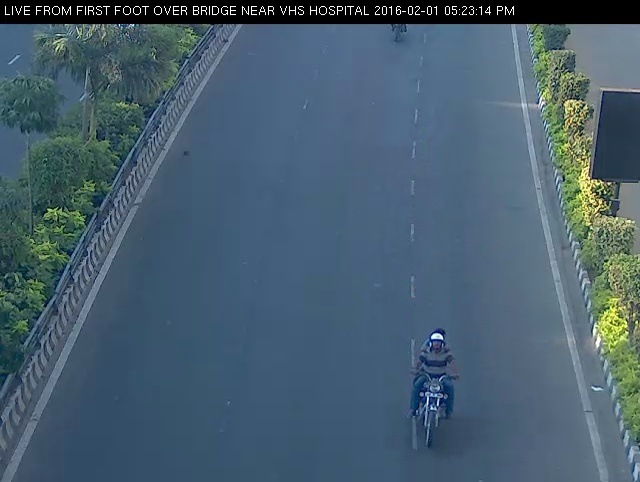Person: (394, 314, 472, 461), (377, 20, 420, 47)
